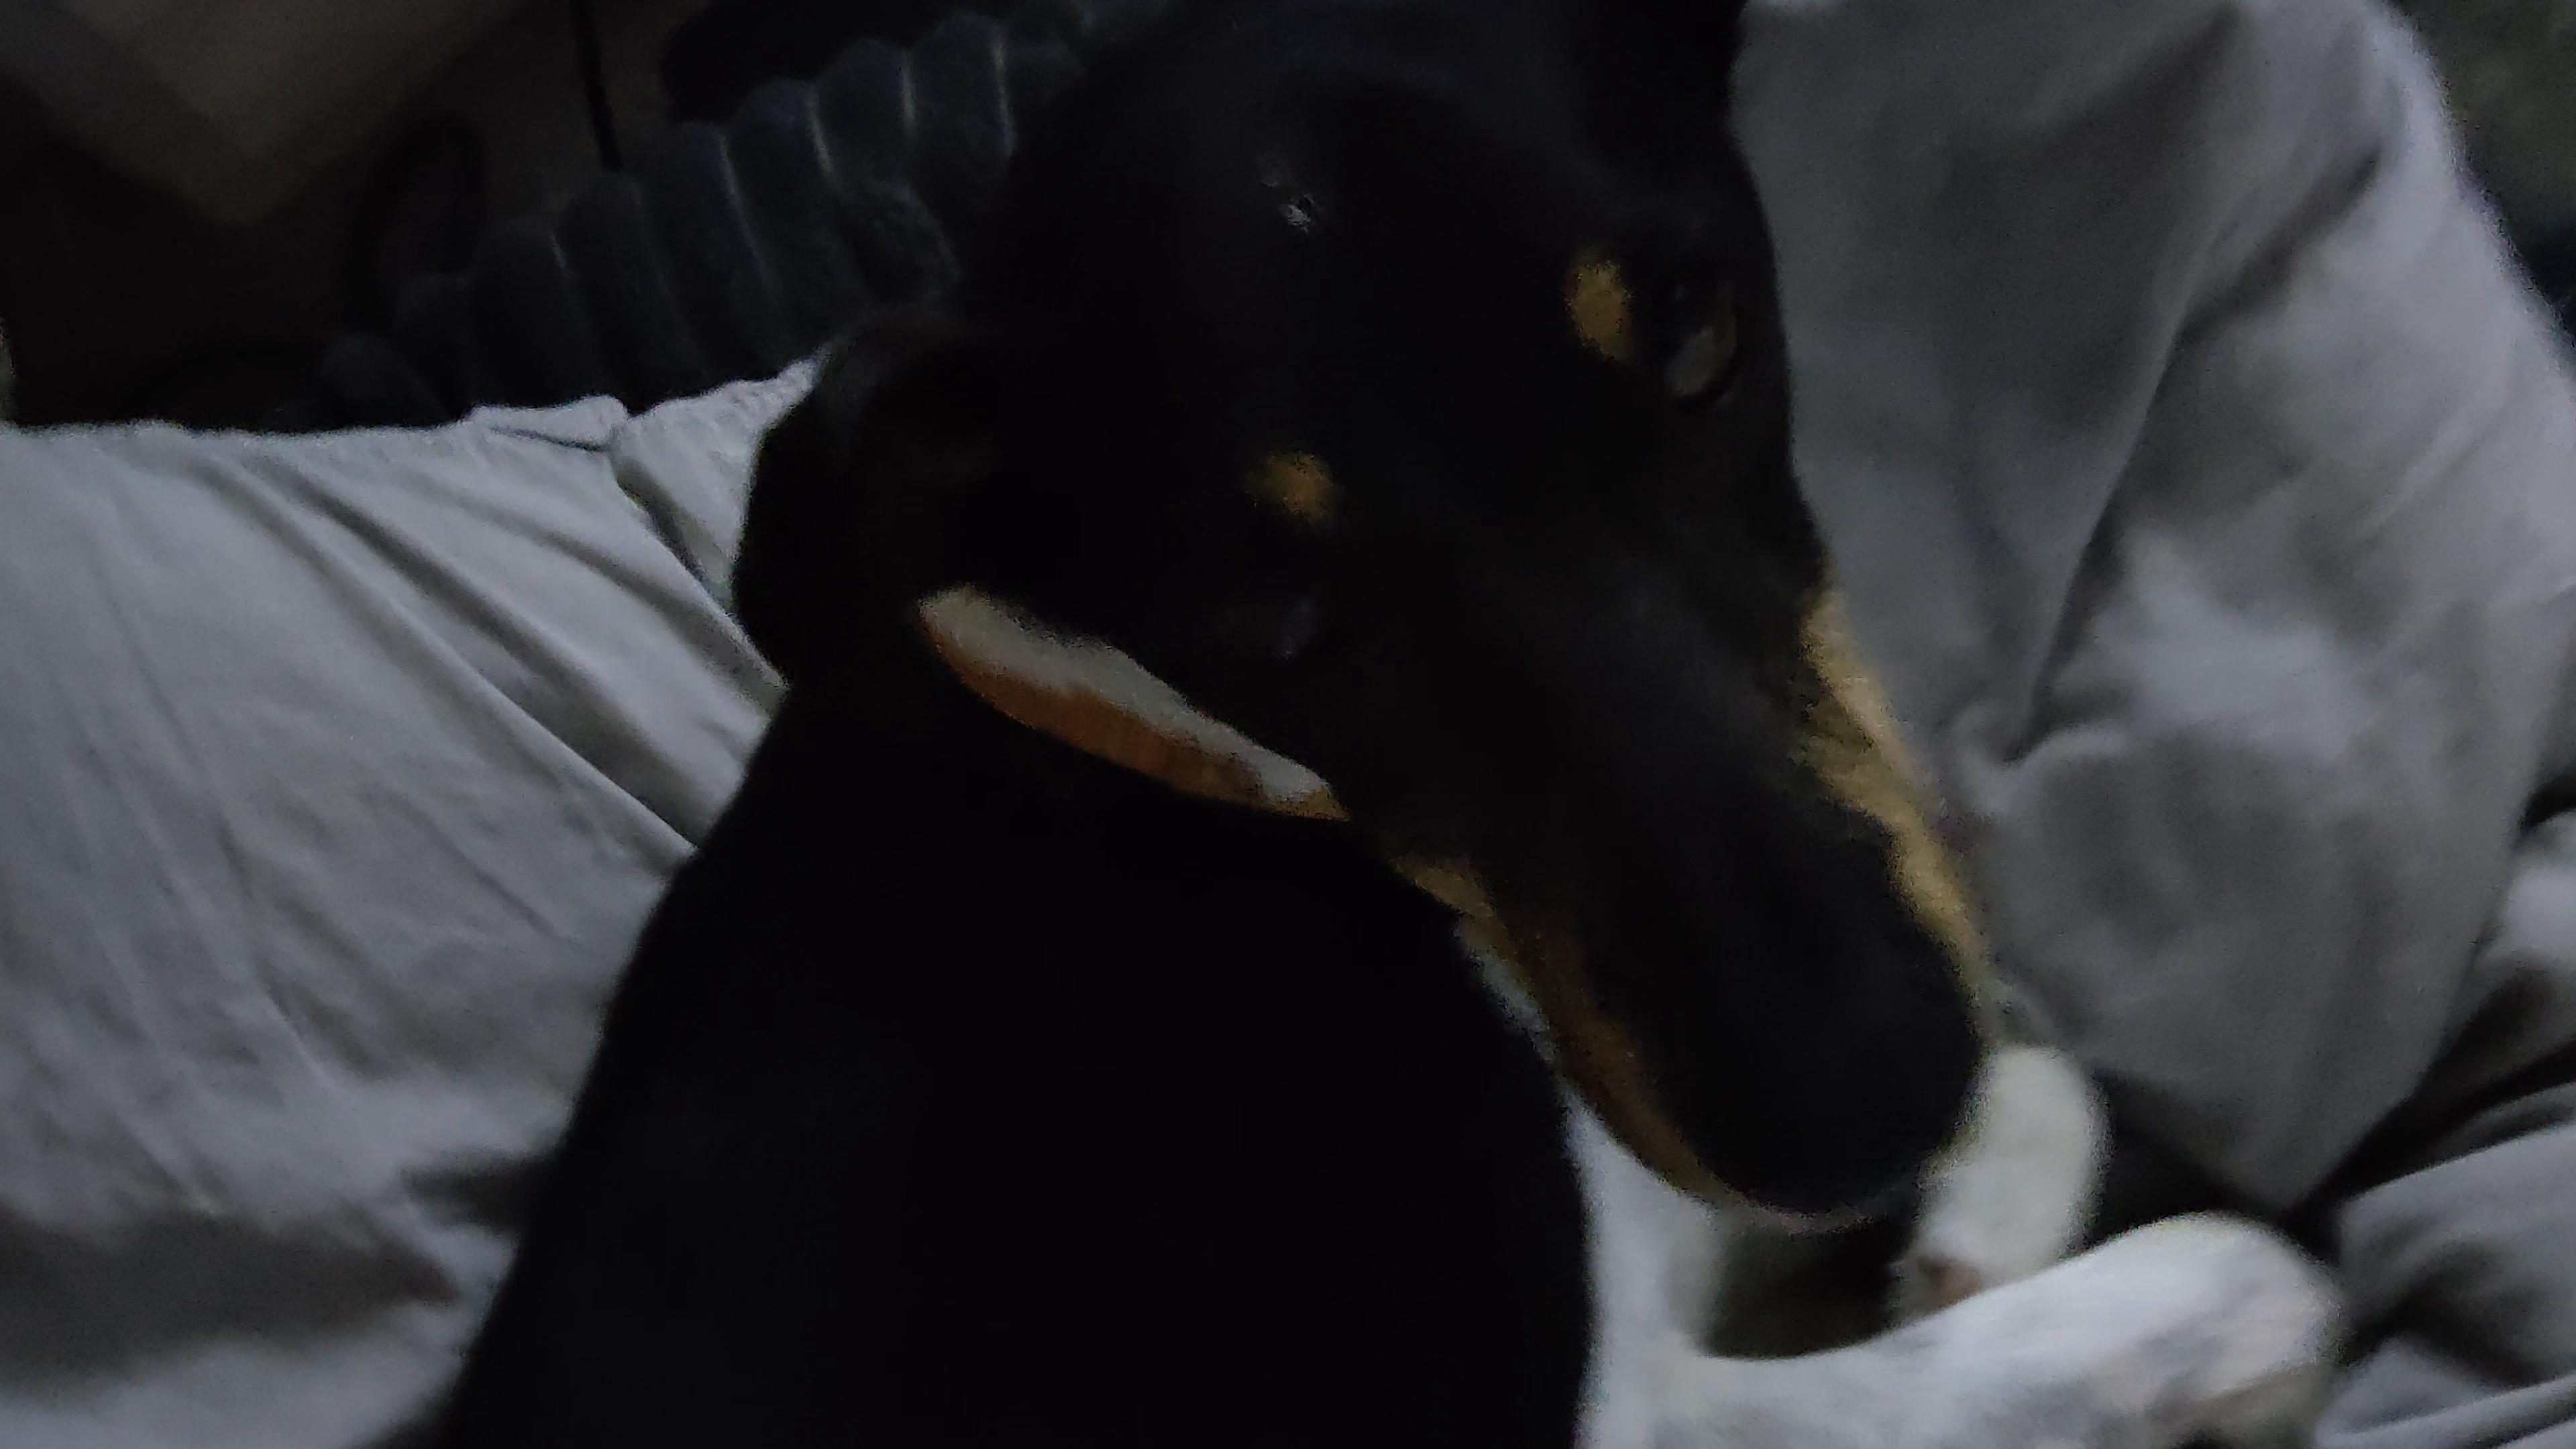Dog: (419, 0, 2403, 1449)
